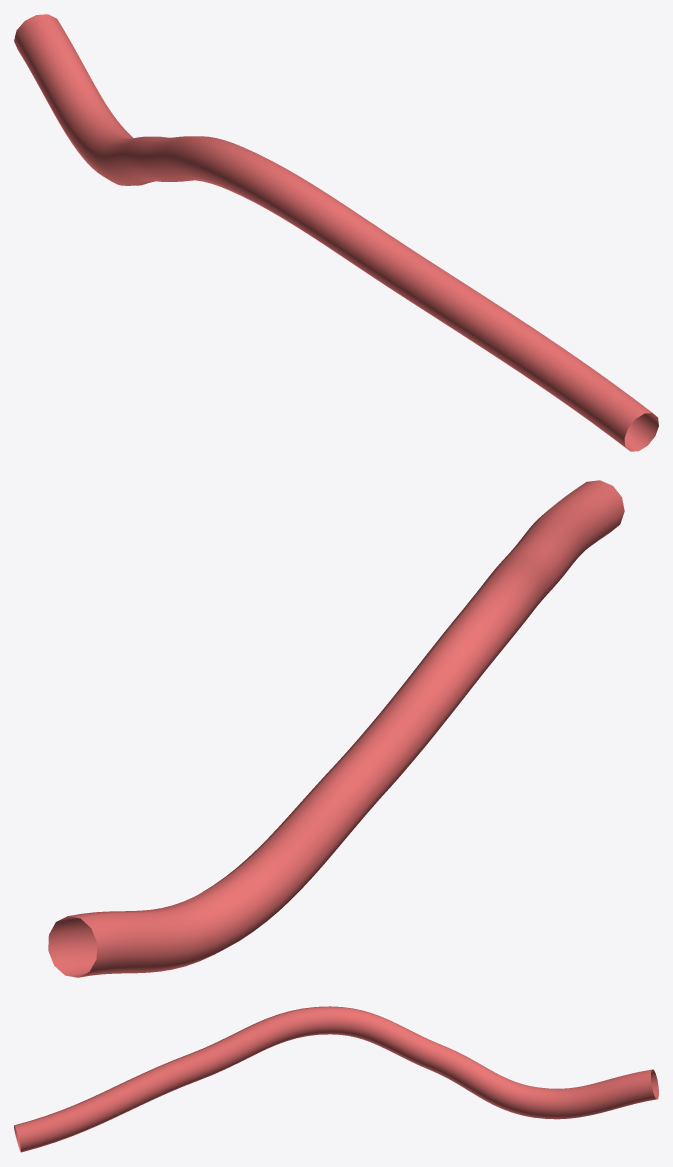
The model's file is Medial_plantar_artery.r.001_BezierCurve.347.glb.
3 views of the same model, one above another, from view 1: azimuth 30°, elevation 25°; view 2: azimuth 150°, elevation 25°; view 3: azimuth 270°, elevation 25° (orthographic). The views are drawn at different scales.
Parts seen in each view (by area): view 1: Medial_plantar_artery.r.001_BezierCurve.347; view 2: Medial_plantar_artery.r.001_BezierCurve.347; view 3: Medial_plantar_artery.r.001_BezierCurve.347.
Part boxes in pixels (x1,y1,x2,y2): Medial_plantar_artery.r.001_BezierCurve.347: [14, 14, 658, 451]; Medial_plantar_artery.r.001_BezierCurve.347: [48, 480, 624, 977]; Medial_plantar_artery.r.001_BezierCurve.347: [14, 1006, 658, 1152].
Size of the model in its own units: 0.00894 by 0.0069 by 0.0412.
